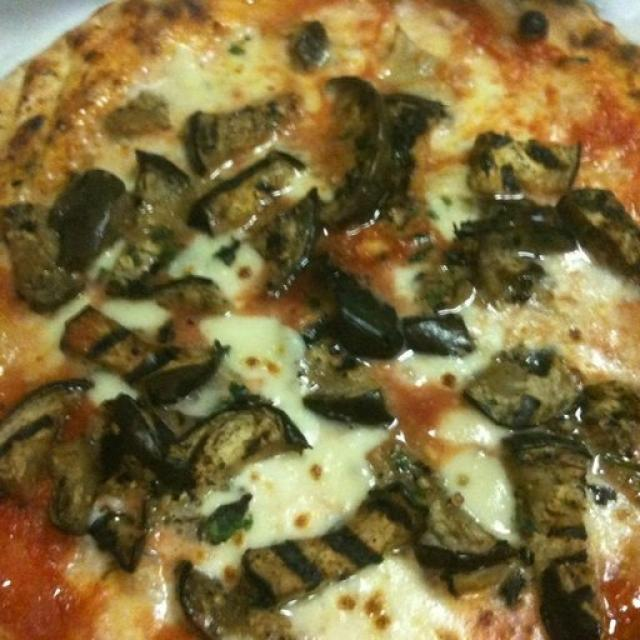Eggplant: (505, 426, 619, 640), (270, 482, 427, 606), (368, 473, 518, 592), (0, 174, 123, 303), (330, 71, 423, 221), (65, 310, 222, 398), (101, 159, 198, 293), (169, 402, 308, 491), (52, 458, 160, 564), (292, 321, 393, 434), (454, 360, 591, 432), (253, 170, 326, 301), (192, 147, 302, 233), (0, 375, 92, 475), (175, 560, 292, 638), (104, 397, 197, 491), (486, 176, 582, 266), (196, 93, 318, 161), (567, 178, 640, 265), (334, 280, 411, 358), (469, 137, 543, 196), (579, 384, 640, 438), (151, 271, 227, 314), (401, 310, 461, 353)
Pizza: (1, 0, 640, 640)
